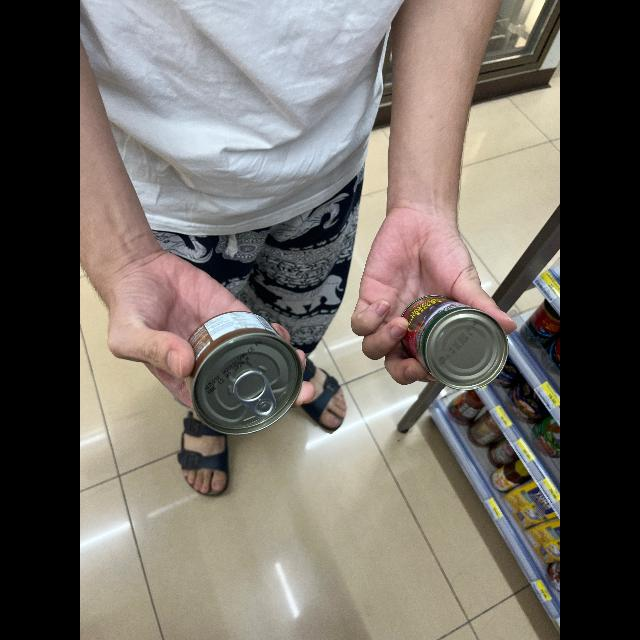can: (168, 310, 304, 434), (372, 289, 514, 385)
